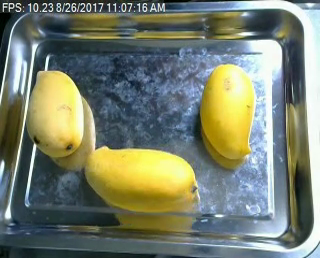Mango: (80, 143, 198, 211), (198, 61, 259, 161), (25, 65, 86, 158)
